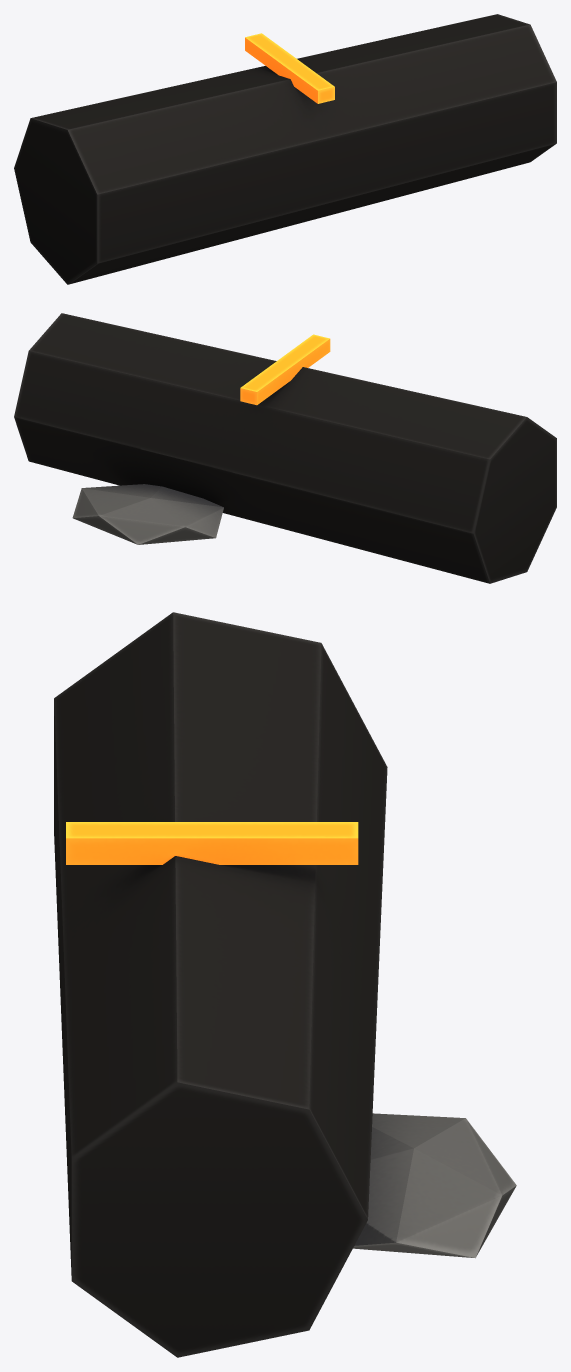
Rendered from rock_charred_log.glb.
3 renders of one model, top to bottom at view 1: azimuth 30°, elevation 25°; view 2: azimuth 150°, elevation 25°; view 3: azimuth 270°, elevation 25°, orthographic. The views are drawn at different scales.
Parts seen in each view (by area): view 1: rock_charred_log; view 2: rock_charred_log; view 3: rock_charred_log.
Boxes of the visible parts, x1,y1,x2,y2 form: rock_charred_log: [14, 14, 556, 284]; rock_charred_log: [14, 313, 556, 583]; rock_charred_log: [54, 612, 516, 1357].
Size of the model in its own units: 1.1 by 0.3605 by 0.4749.
1 material, 1 textured.
